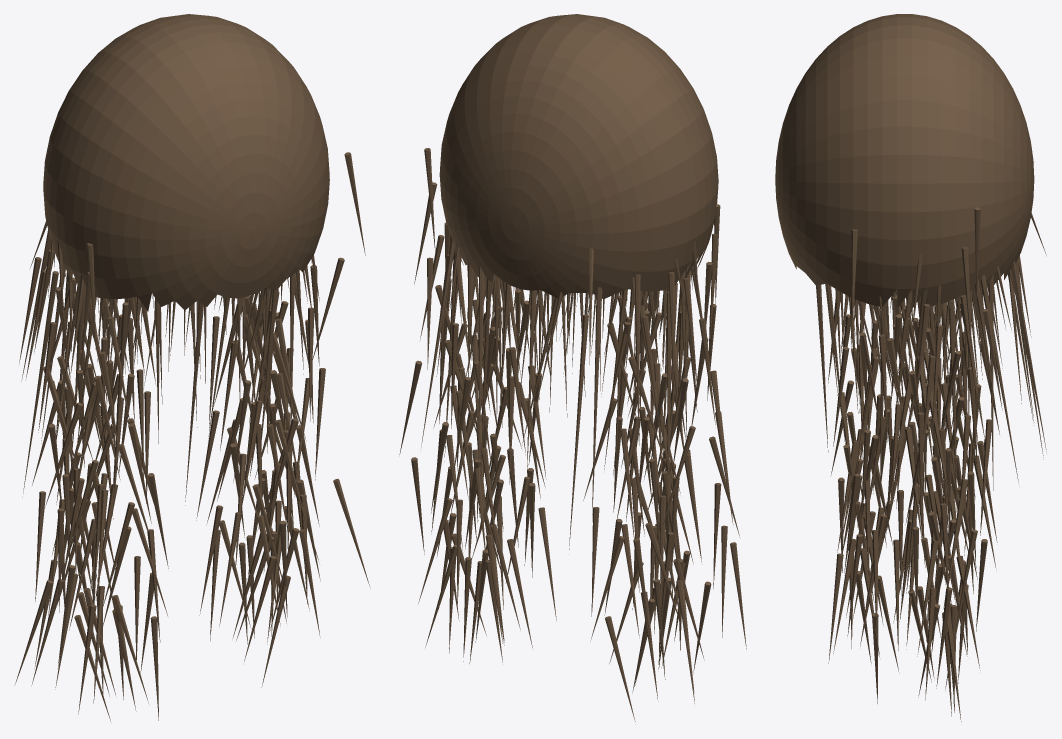
The model's file is shoulder_waves.glb.
3 renders of one model, left to right at view 1: azimuth 30°, elevation 25°; view 2: azimuth 150°, elevation 25°; view 3: azimuth 270°, elevation 25°, orthographic. The views are drawn at different scales.
Parts seen in each view (by area): view 1: part_000, part_028, part_071, part_076; view 2: part_000, part_011, part_030, part_028, part_082, part_006, part_057, part_022, part_059; view 3: part_000, part_029, part_082, part_006, part_076, part_057, part_031, part_215, part_218, part_325, part_237, part_234 (+6 smaller).
Boxes of the visible parts, x1,y1,x2,y2 form: part_000: [43, 14, 329, 311]; part_028: [22, 271, 58, 496]; part_071: [185, 302, 203, 505]; part_076: [258, 288, 278, 466]; part_000: [439, 14, 718, 299]; part_011: [569, 314, 588, 549]; part_030: [592, 287, 602, 522]; part_028: [667, 291, 671, 535]; part_082: [478, 266, 484, 480]; part_006: [421, 237, 454, 447]; part_057: [480, 278, 491, 477]; part_022: [634, 274, 640, 440]; part_059: [526, 290, 535, 479]; part_000: [775, 14, 1034, 308]; part_029: [948, 299, 957, 515]; part_082: [1011, 260, 1046, 451]; part_006: [980, 274, 1019, 485]; part_076: [816, 284, 828, 452]; part_057: [988, 274, 993, 490]; part_031: [880, 302, 886, 505]; part_215: [851, 229, 857, 338]; part_218: [833, 538, 856, 653]; part_325: [980, 419, 992, 534]; part_237: [947, 479, 968, 593]; part_234: [917, 540, 938, 656].
Size of the model in its own units: 0.2476 by 0.5306 by 0.1998.
